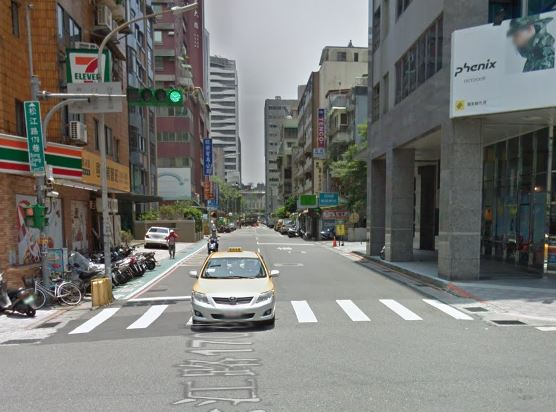Traffic_light_green: (129, 87, 185, 106)
car: (188, 246, 282, 328)
